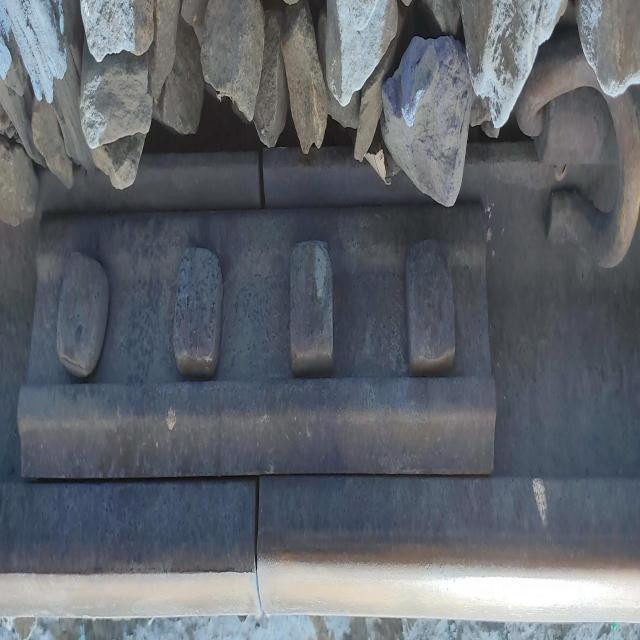Good Fasteners: (514, 25, 640, 268)
Good Joint: (19, 201, 496, 469)
